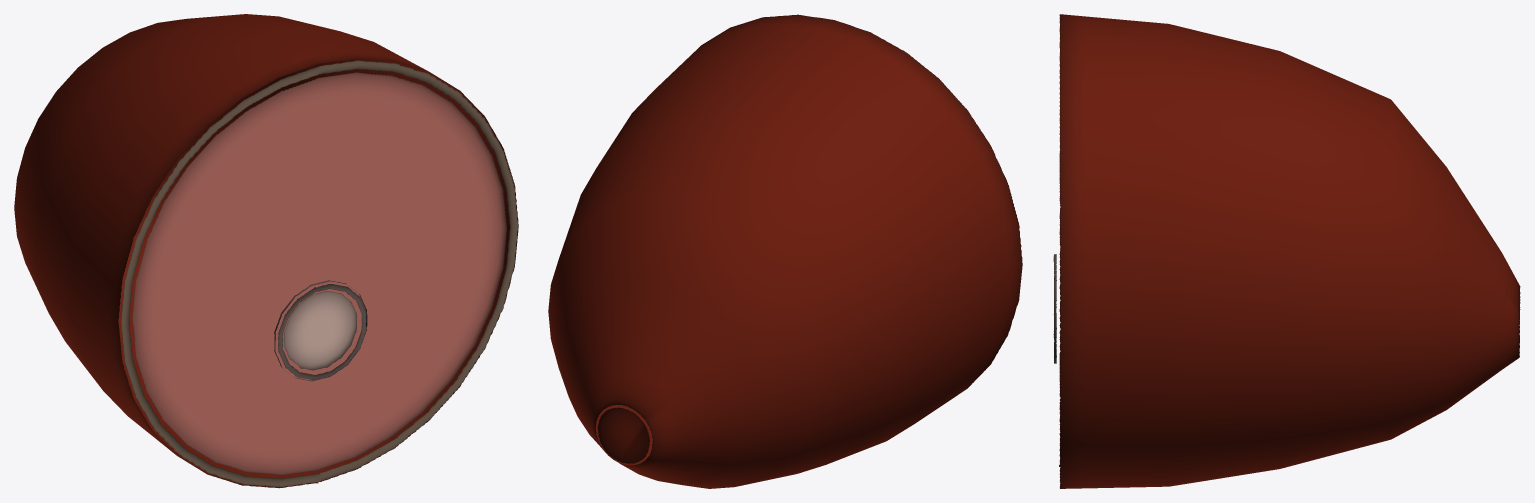
File: ham.fbx
3 views of the same model, side by side, from view 1: azimuth 30°, elevation 25°; view 2: azimuth 150°, elevation 25°; view 3: azimuth 270°, elevation 25° (orthographic). The views are drawn at different scales.
Parts seen in each view (by area): view 1: Cylinder; view 2: Cylinder; view 3: Cylinder.
Part boxes in pixels (<box>): Cylinder: <box>14,14,518,488</box>; Cylinder: <box>548,14,1022,488</box>; Cylinder: <box>1053,14,1520,488</box>.
Bounding box in the file's own units: 119 × 119 × 117.
